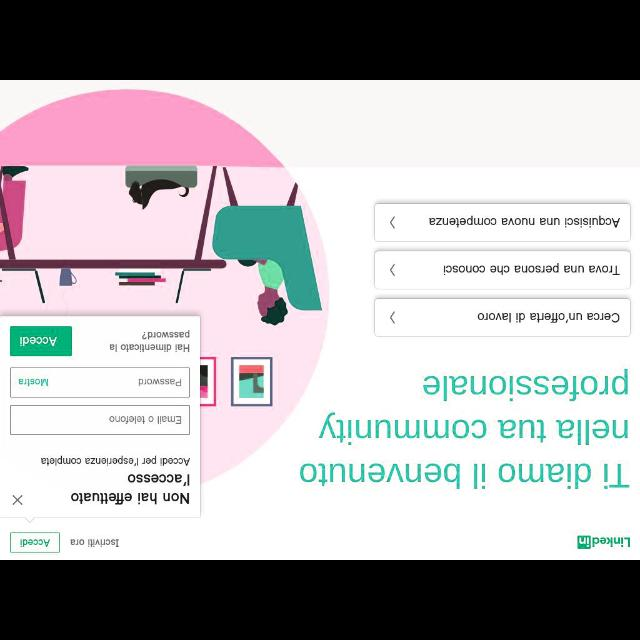backgroundimage: (1, 80, 640, 560)
icon: (578, 536, 590, 548), (12, 495, 22, 505), (390, 312, 394, 324), (390, 264, 394, 276), (390, 216, 394, 228)
input: (11, 367, 189, 397), (11, 406, 190, 434)
text: (319, 413, 627, 445), (301, 464, 629, 488), (423, 369, 627, 401), (429, 215, 619, 227), (444, 263, 620, 275), (40, 455, 190, 465), (478, 313, 618, 323), (72, 494, 188, 504), (128, 474, 190, 486), (110, 344, 188, 352), (110, 416, 180, 424), (143, 329, 190, 338), (71, 539, 119, 547), (19, 336, 56, 346), (592, 538, 630, 546), (139, 379, 181, 386), (19, 378, 47, 386), (580, 537, 588, 547)
textbutton: (375, 298, 629, 336), (376, 204, 630, 242), (376, 252, 630, 288), (10, 326, 72, 356), (10, 532, 60, 552)
